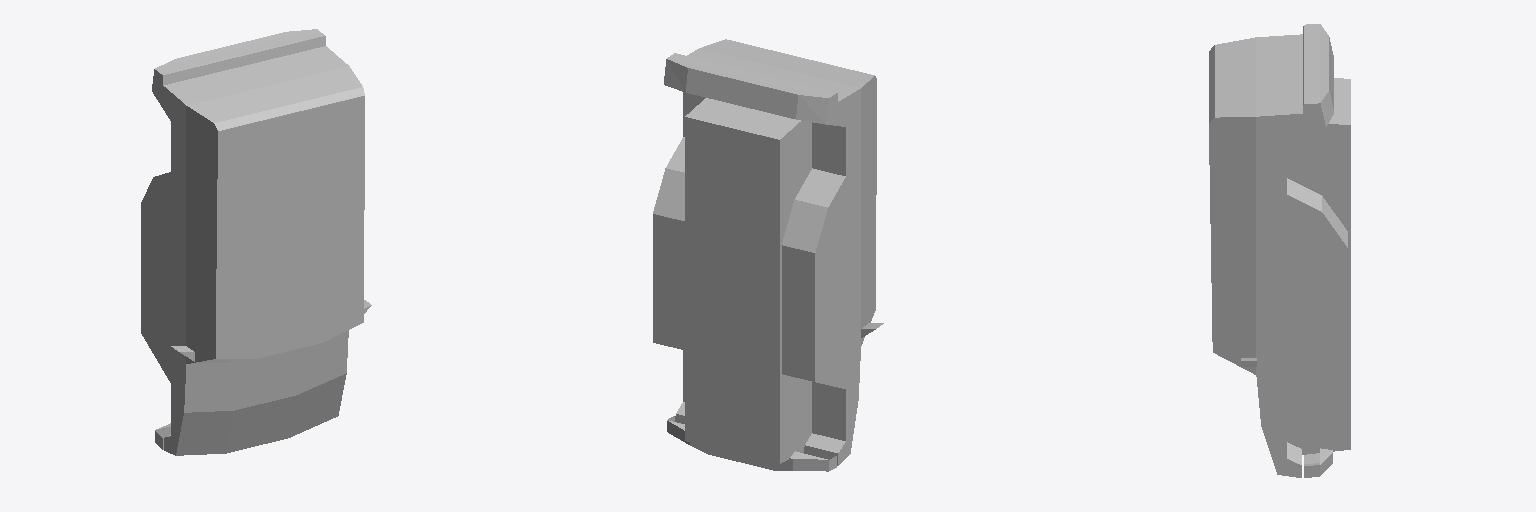
Rendered from cargalben.obj.
The picture shows the model from 3 angles: view 1: azimuth 30°, elevation 25°; view 2: azimuth 150°, elevation 25°; view 3: azimuth 270°, elevation 25°; orthographic projection.
Visible parts, largest first — view 1: H2; view 2: H2; view 3: H2.
Part boxes in pixels (x1,y1,x2,y2): H2: (141, 29, 371, 455); H2: (653, 39, 883, 471); H2: (1209, 24, 1350, 477).
Size of the model in its own units: 1170 by 2234 by 748.